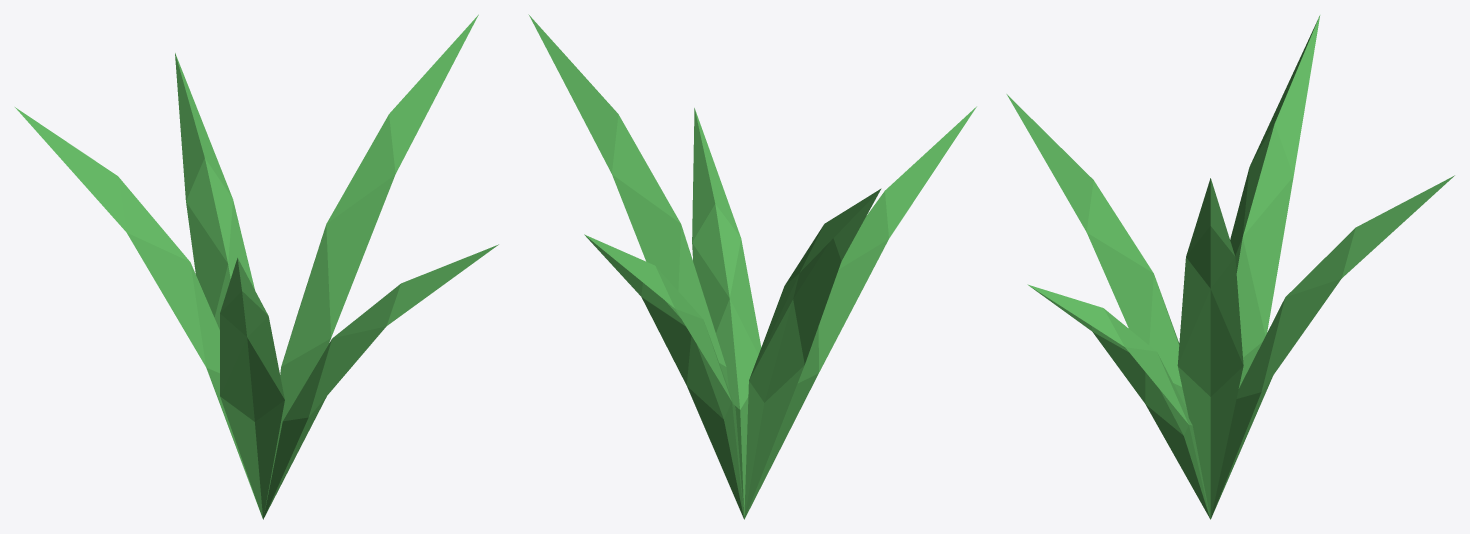
File: Hilly_Prop_Grass_Clump_3.glb
The picture shows the model from 3 angles, left to right: view 1: azimuth 30°, elevation 25°; view 2: azimuth 150°, elevation 25°; view 3: azimuth 270°, elevation 25°; orthographic projection.
Parts seen in each view (by area): view 1: Hilly_Prop_Grass_Clump_3; view 2: Hilly_Prop_Grass_Clump_3; view 3: Hilly_Prop_Grass_Clump_3.
Boxes of the visible parts, x1,y1,x2,y2 form: Hilly_Prop_Grass_Clump_3: (15, 14, 498, 519); Hilly_Prop_Grass_Clump_3: (528, 14, 976, 519); Hilly_Prop_Grass_Clump_3: (1006, 15, 1454, 519).
Bounding box in the file's own units: 0.176 × 0.1864 × 0.1702.
